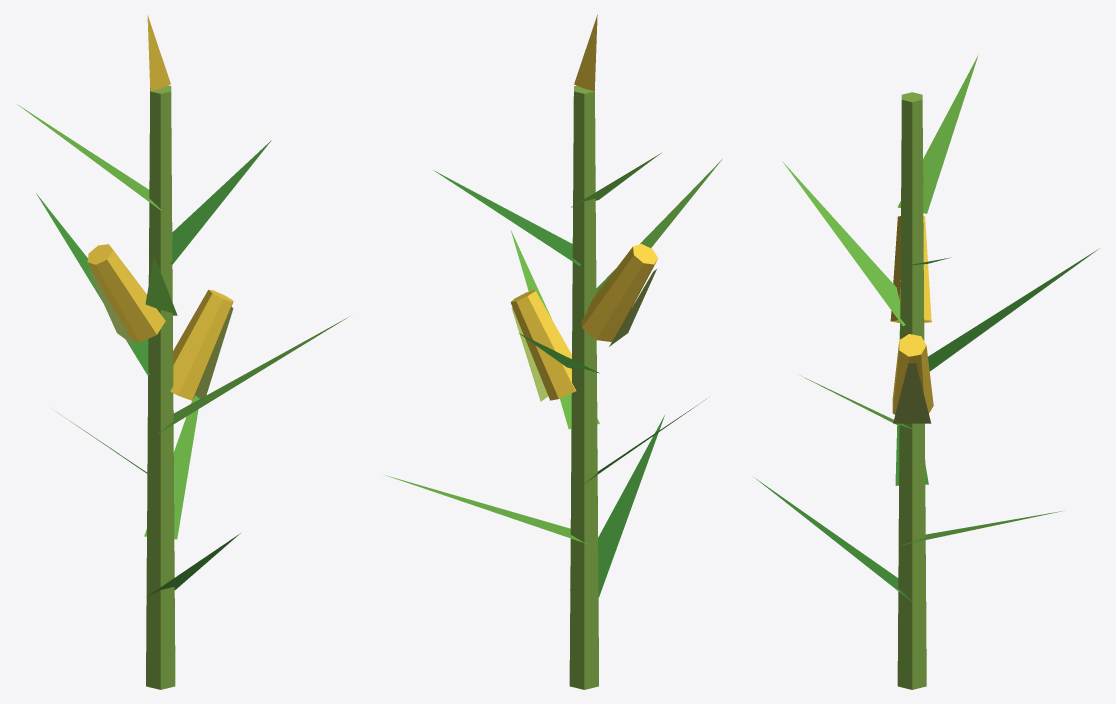
File: corn_4.obj
3 views of the same model, side by side, from view 1: azimuth 30°, elevation 25°; view 2: azimuth 150°, elevation 25°; view 3: azimuth 270°, elevation 25° (orthographic).
Parts seen in each view (by area): view 1: plant; view 2: plant; view 3: plant.
Boxes of the visible parts, <box> form: plant: <box>17,15,349,689</box>; plant: <box>385,14,722,689</box>; plant: <box>755,55,1099,689</box>.
Size of the model in its own units: 0.6033 by 1.53 by 0.73.
